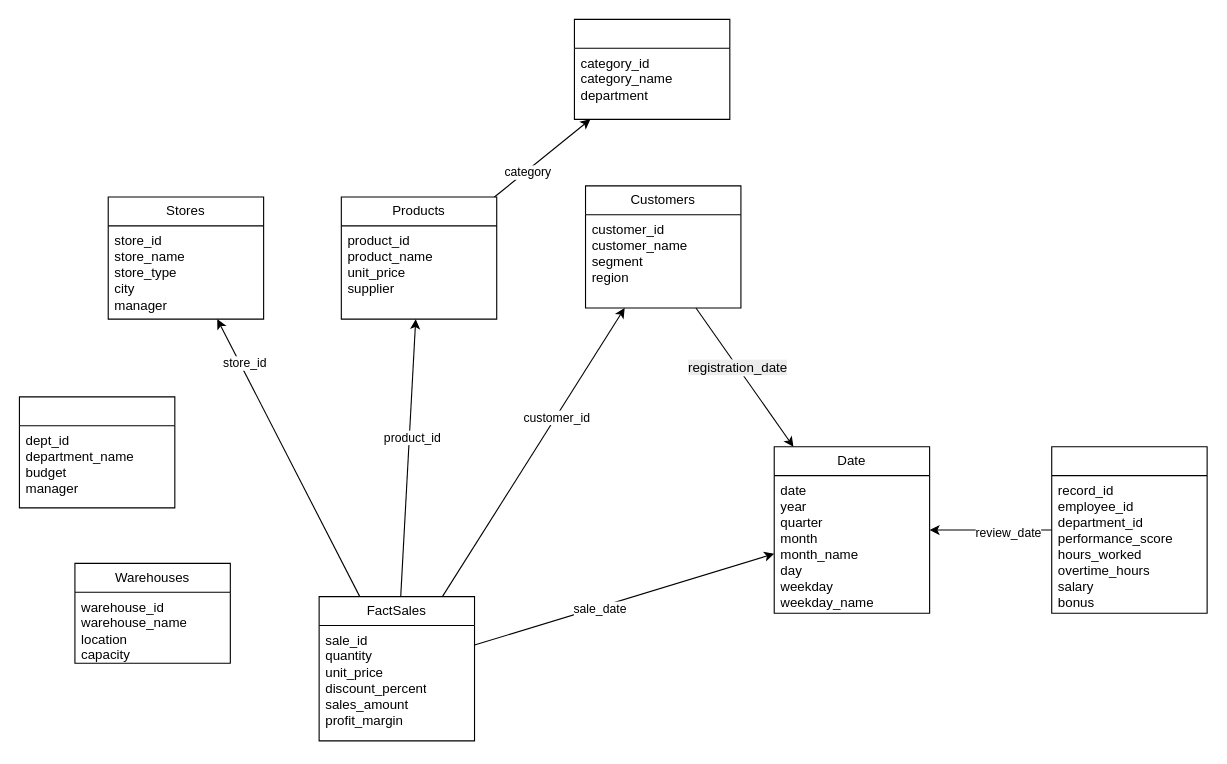
Image size: 1227x764. Some labels were removed from this diagram. Each missing label, with the box of its shape:
Categories: (573, 18, 730, 119)
Departments: (18, 396, 175, 508)
Employees: (1051, 446, 1207, 613)
